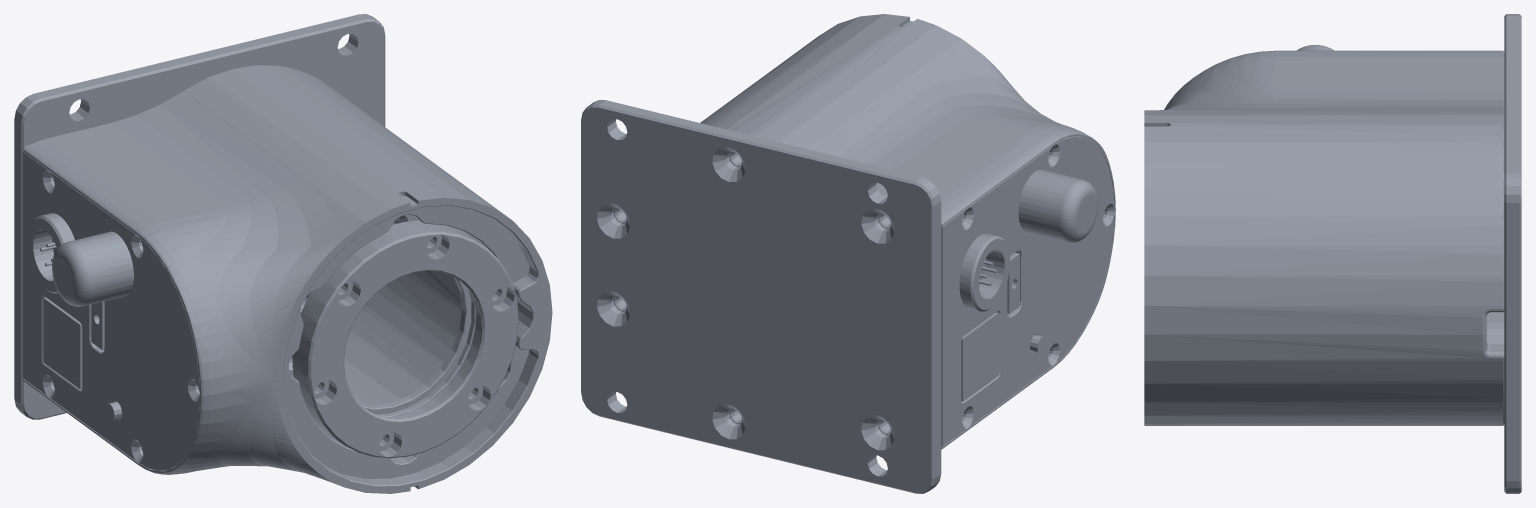
The picture shows the model from 3 angles, left to right: view 1: azimuth 30°, elevation 25°; view 2: azimuth 150°, elevation 25°; view 3: azimuth 270°, elevation 25°; orthographic projection. The views are drawn at different scales.
Size of the model in its own units: 0.109 by 0.08 by 0.086.
